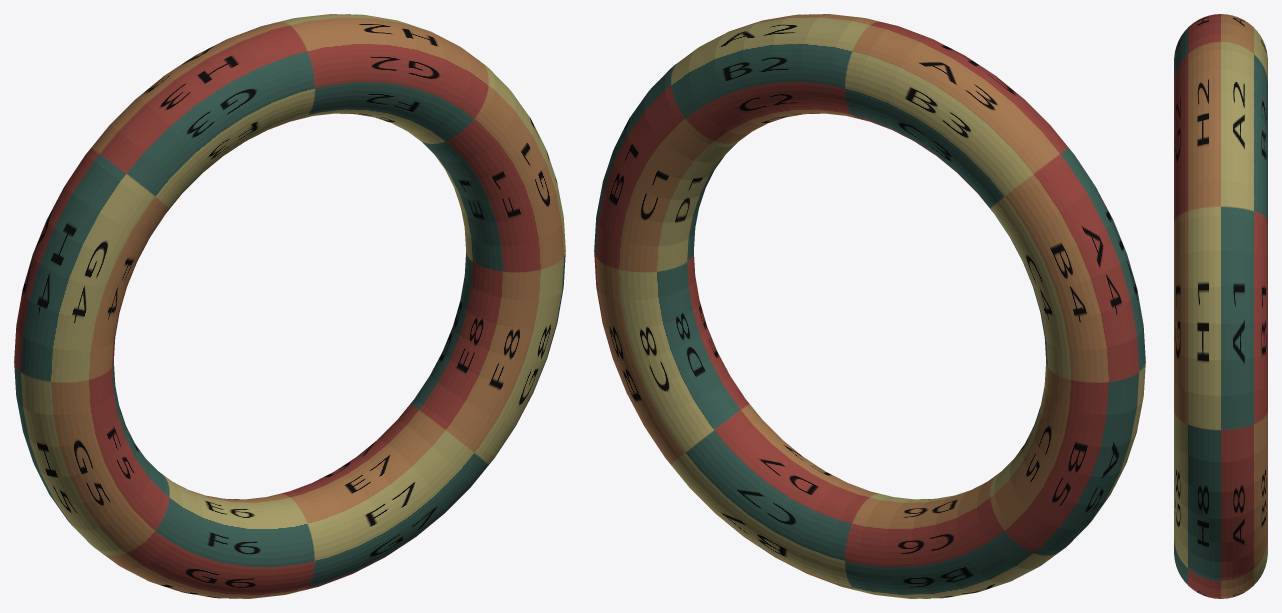
Rendered from texture_torus_R30_r14.glb.
3 renders of one model, left to right at view 1: azimuth 30°, elevation 25°; view 2: azimuth 150°, elevation 25°; view 3: azimuth 270°, elevation 25°, orthographic. The views are drawn at different scales.
Parts seen in each view (by area): view 1: world; view 2: world; view 3: world.
Boxes of the visible parts, x1,y1,x2,y2 form: world: [14, 14, 565, 598]; world: [594, 14, 1145, 598]; world: [1174, 14, 1267, 598].
Bounding box in the file's own units: 35.73 × 35.66 × 5.72.
Materials: 1 (1 with a texture image).
